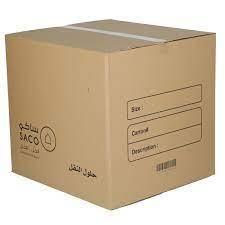box: (5, 19, 215, 210)
